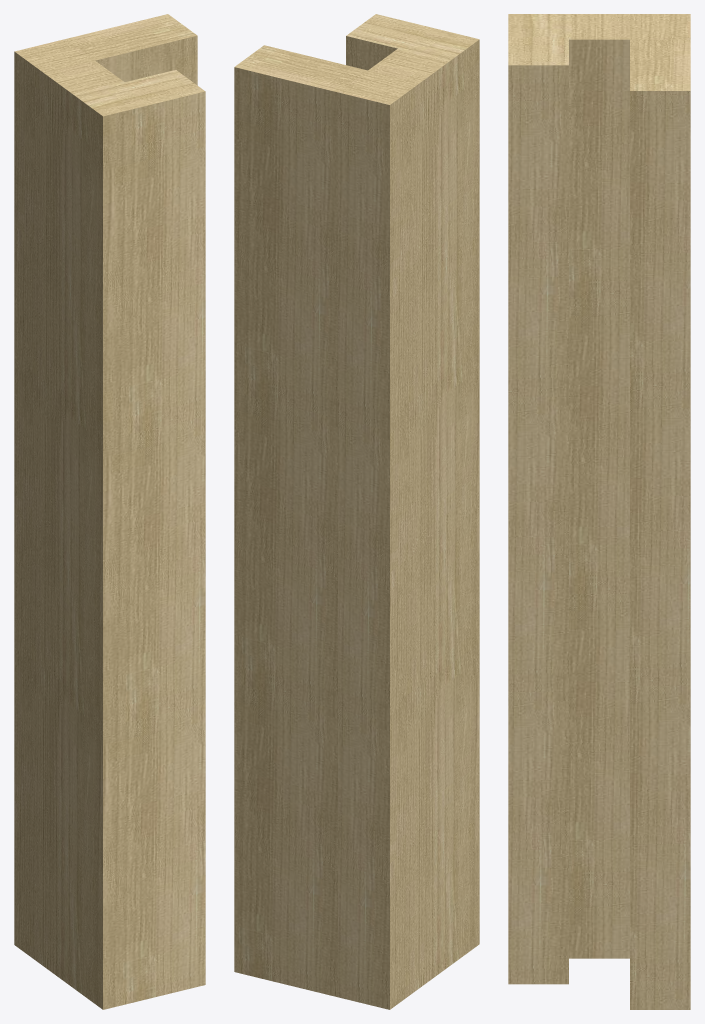
The picture shows the model from 3 angles, left to right: view 1: azimuth 30°, elevation 25°; view 2: azimuth 150°, elevation 25°; view 3: azimuth 270°, elevation 25°; orthographic projection. The views are drawn at different scales.
Visible parts, largest first — view 1: Geom3D; view 2: Geom3D; view 3: Geom3D.
Boxes of the visible parts, left/top/right/bottom form: Geom3D: left=14, top=14, right=205, bottom=1009; Geom3D: left=234, top=14, right=479, bottom=1009; Geom3D: left=508, top=14, right=690, bottom=1009.
Size of the model in its own units: 0.054 by 0.3 by 0.054.
Materials: 1 (1 with a texture image).
